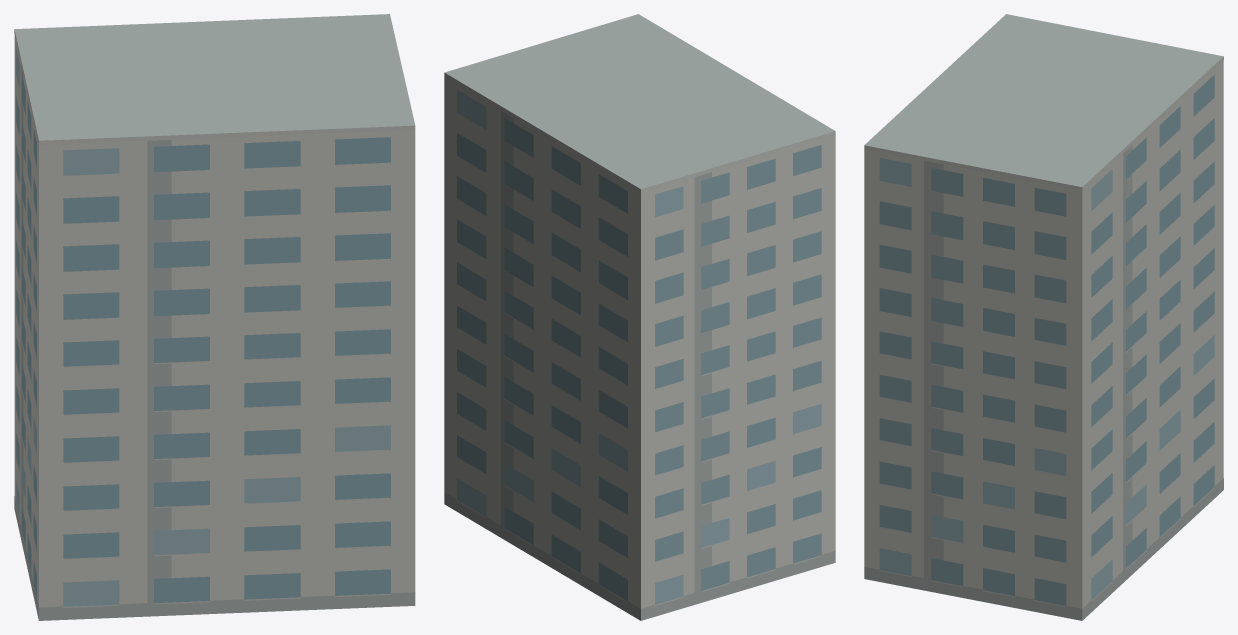
File: residential-ca9aaa86-487c-4e78-ba08-32ed48a07e86.glb
The picture shows the model from 3 angles, left to right: view 1: azimuth 30°, elevation 25°; view 2: azimuth 150°, elevation 25°; view 3: azimuth 270°, elevation 25°; orthographic projection. The views are drawn at different scales.
Visible parts, largest first — view 1: residential-ca9aaa86-487c-4e78-ba08-32ed48a07e86.tmp; view 2: residential-ca9aaa86-487c-4e78-ba08-32ed48a07e86.tmp; view 3: residential-ca9aaa86-487c-4e78-ba08-32ed48a07e86.tmp.
Part boxes in pixels (x1,y1,x2,y2): residential-ca9aaa86-487c-4e78-ba08-32ed48a07e86.tmp: (14, 14, 415, 620); residential-ca9aaa86-487c-4e78-ba08-32ed48a07e86.tmp: (444, 14, 835, 620); residential-ca9aaa86-487c-4e78-ba08-32ed48a07e86.tmp: (864, 14, 1223, 620).
Size of the model in its own units: 22.28 by 26 by 19.55.
